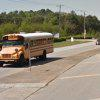Bus: (4, 27, 61, 63)
